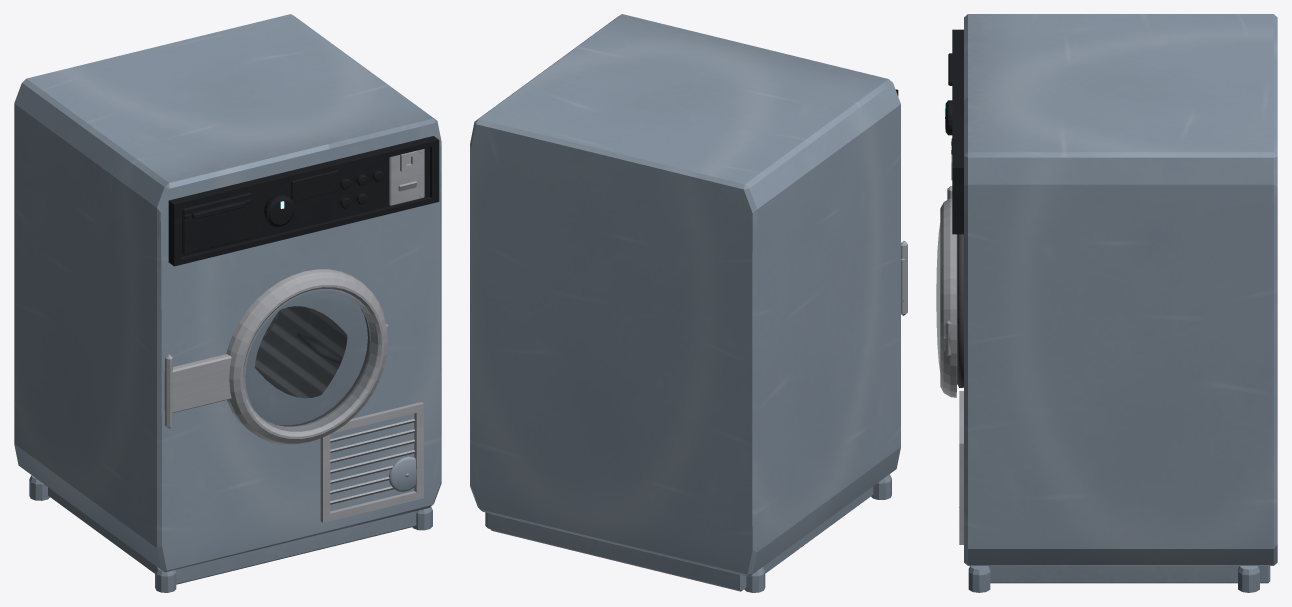
File: ApplianceHD_Dryer.fbx
3 renders of one model, left to right at view 1: azimuth 30°, elevation 25°; view 2: azimuth 150°, elevation 25°; view 3: azimuth 270°, elevation 25°, orthographic. The views are drawn at different scales.
Parts seen in each view (by area): view 1: Cabinet, ControlPanel, DoorGlass, DoorRing, Drum, VentBank, CoinSlot; view 2: Cabinet; view 3: Cabinet, DoorRing, ControlPanel, Gasket, VentBank, DoorGlass.
Boxes of the visible parts, <box> form: Cabinet: <box>14,14,441,592</box>; ControlPanel: <box>168,136,439,266</box>; DoorGlass: <box>245,291,376,431</box>; DoorRing: <box>164,269,388,444</box>; Drum: <box>255,306,347,398</box>; VentBank: <box>320,402,423,522</box>; CoinSlot: <box>389,149,424,205</box>; Cabinet: <box>470,14,900,592</box>; Cabinet: <box>959,14,1277,592</box>; DoorRing: <box>940,186,957,397</box>; ControlPanel: <box>943,29,963,234</box>; Gasket: <box>957,234,963,387</box>; VentBank: <box>959,391,963,544</box>; DoorGlass: <box>936,223,940,371</box>.
Bounding box in the file's own units: 0.8 × 1.1 × 0.775.
5 materials, 3 textured.
